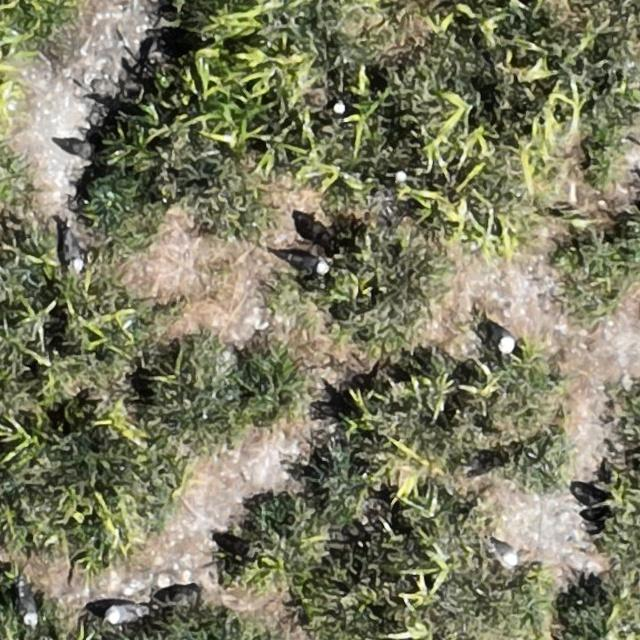umineko: (62, 228, 87, 276), (283, 253, 326, 274), (20, 590, 38, 626), (492, 543, 520, 566), (108, 605, 140, 625), (494, 327, 516, 353)
